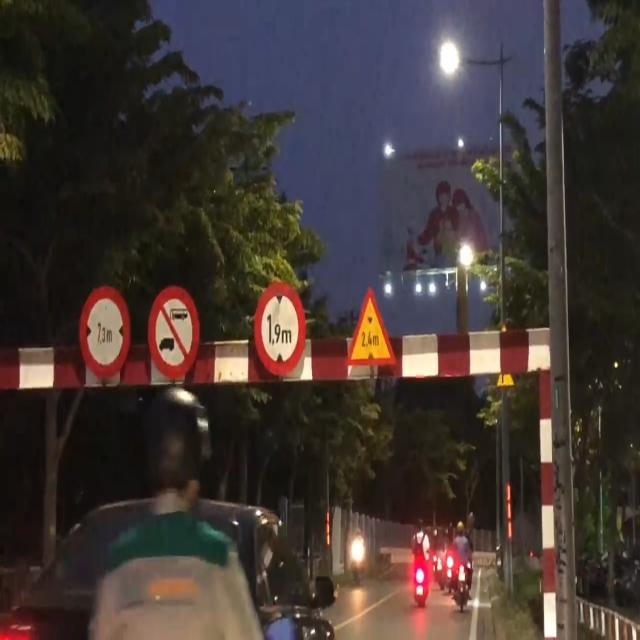Bien bao cam xe oto khach va xe oto tai: (146, 282, 209, 390)
Bien bao chieu cao tinh khong thuc te: (341, 277, 405, 378)
Bien bao han che chieu cao: (246, 276, 310, 394)
